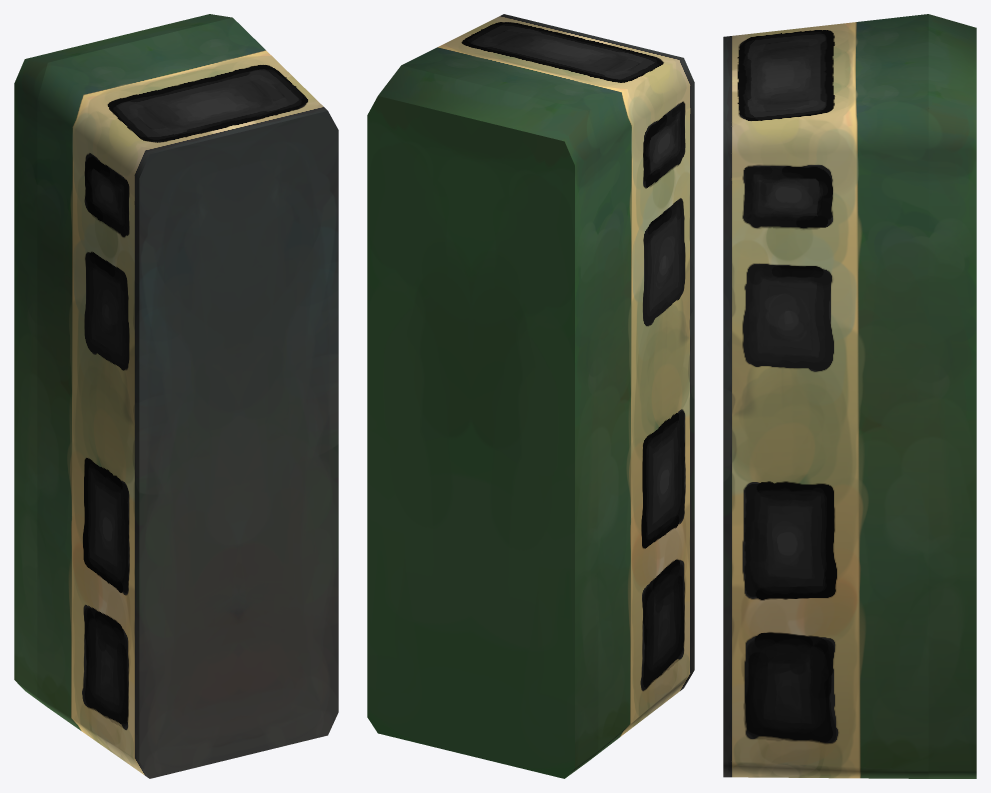
The model's file is train_cab.glb.
The picture shows the model from 3 angles, left to right: view 1: azimuth 30°, elevation 25°; view 2: azimuth 150°, elevation 25°; view 3: azimuth 270°, elevation 25°; orthographic projection. The views are drawn at different scales.
Visible parts, largest first — view 1: train_cab; view 2: train_cab; view 3: train_cab.
Boxes of the visible parts, x1=… form: train_cab: x1=14, y1=14, x2=338, y2=778; train_cab: x1=367, y1=14, x2=694, y2=778; train_cab: x1=723, y1=14, x2=976, y2=778.
Bounding box in the file's own units: 2.58 × 7.71 × 2.64.
Materials: 1 (1 with a texture image).
